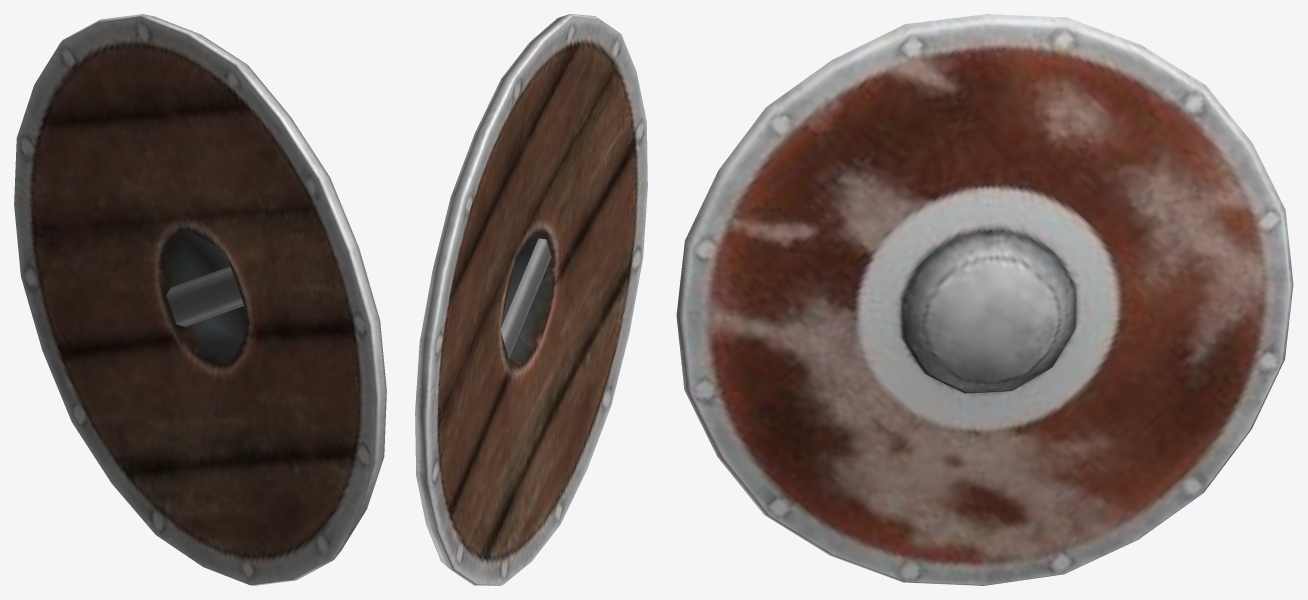
The model's file is rider-shield-slice-coppershields.glb.
The picture shows the model from 3 angles, left to right: view 1: azimuth 30°, elevation 25°; view 2: azimuth 150°, elevation 25°; view 3: azimuth 270°, elevation 25°; orthographic projection. The views are drawn at different scales.
Size of the model in its own units: 0.0833 by 0.4321 by 0.4283.
1 material, 1 textured.
